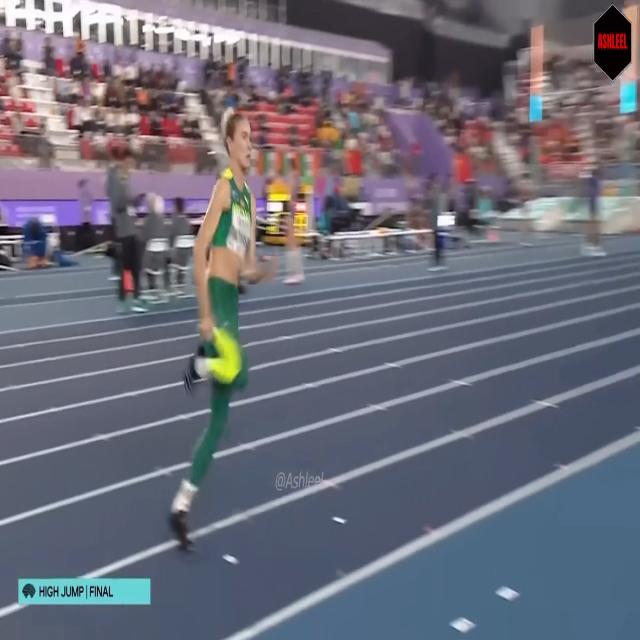run: (168, 106, 276, 554)
